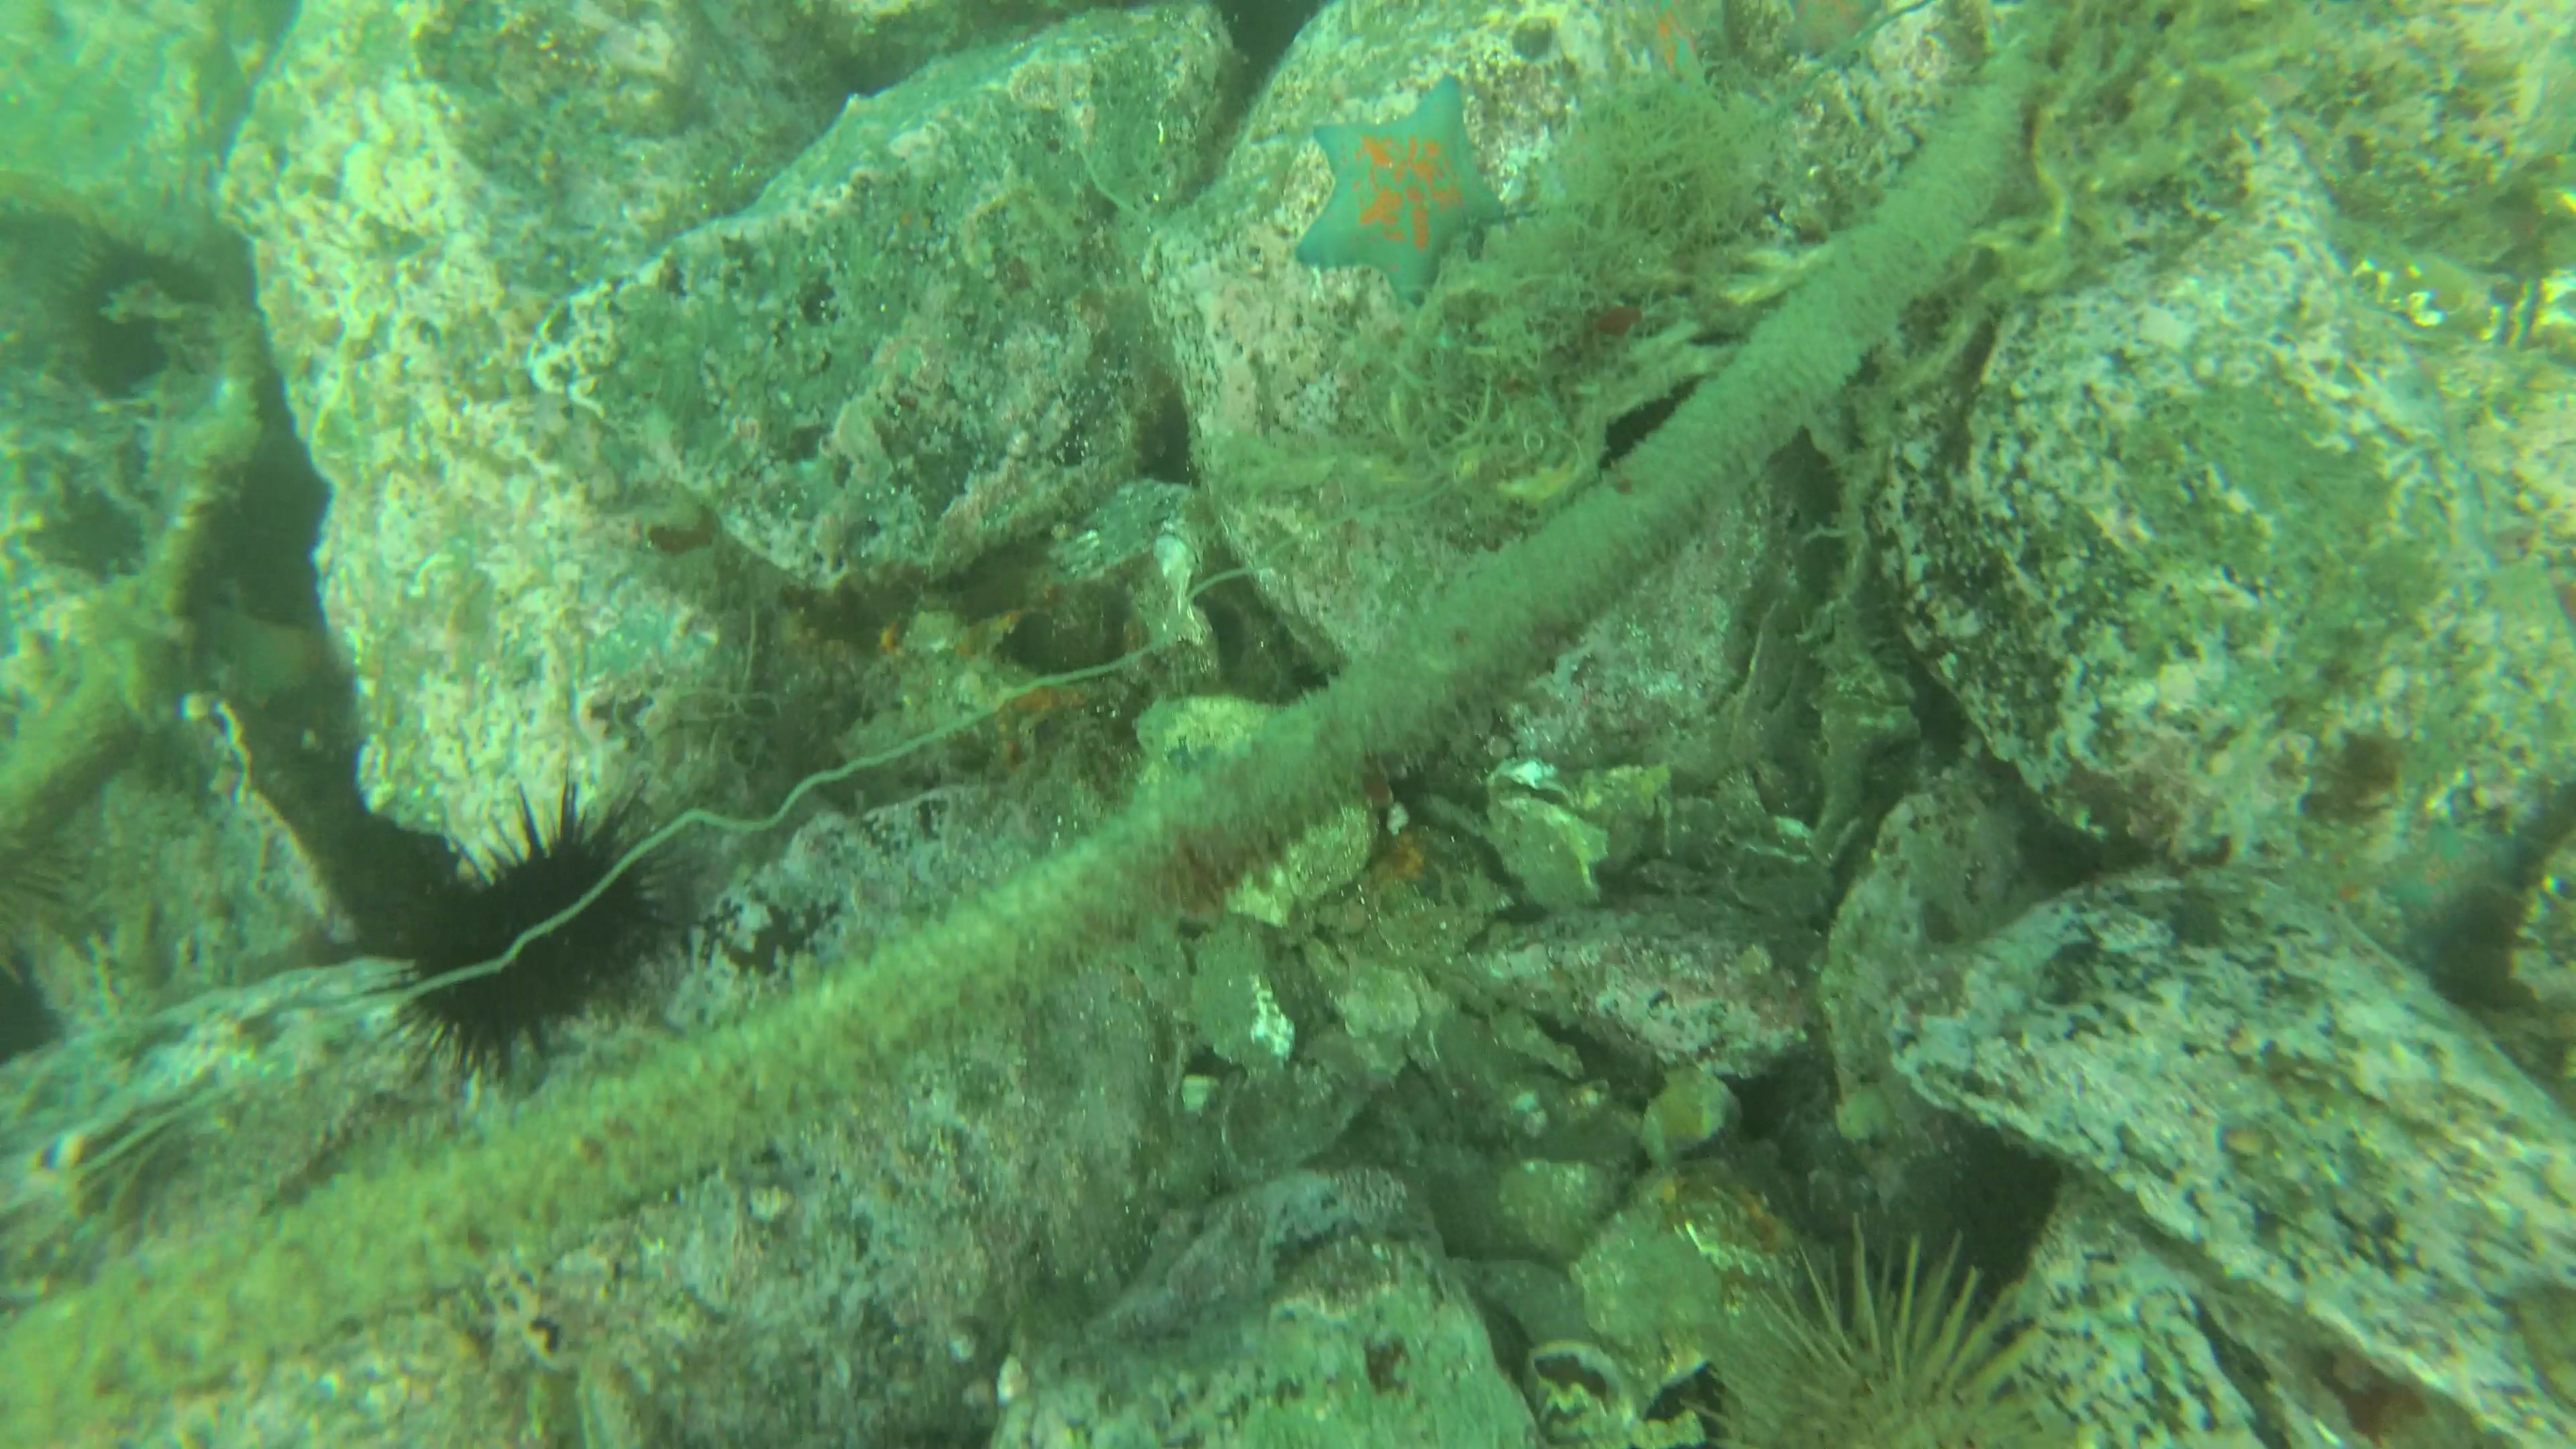echinus: (361, 778, 686, 1076), (1658, 1228, 2068, 1449)
starfish: (1279, 76, 1529, 311)
